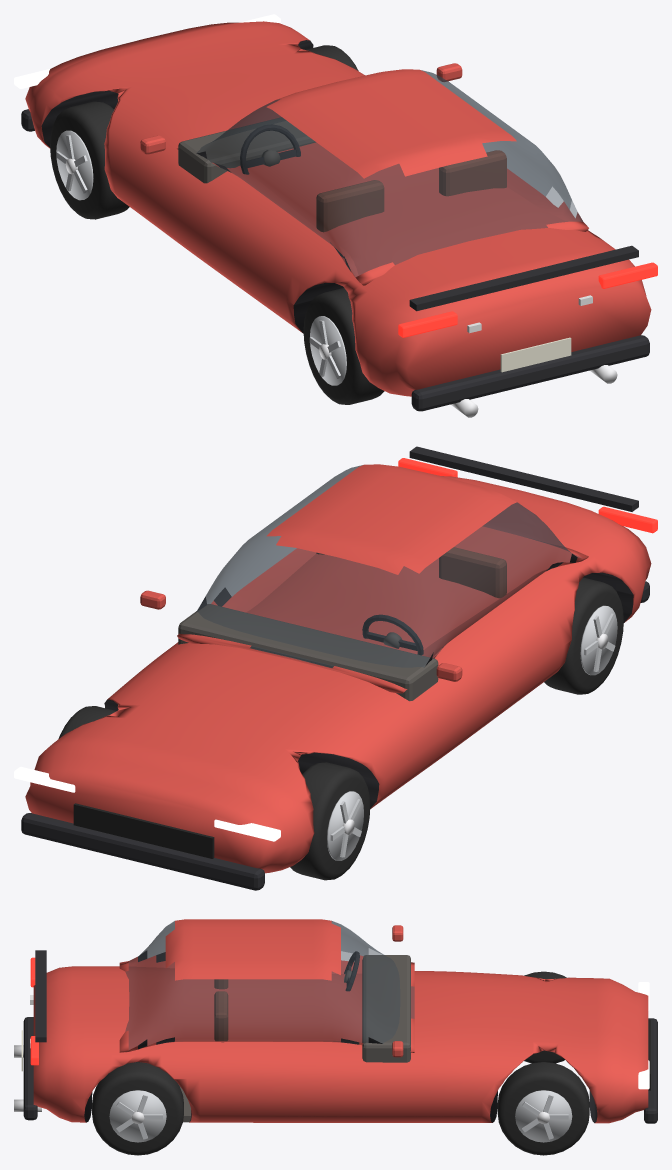
Rendered from coupe.glb.
The picture shows the model from 3 angles, top to bottom: view 1: azimuth 30°, elevation 25°; view 2: azimuth 150°, elevation 25°; view 3: azimuth 270°, elevation 25°; orthographic projection. The views are drawn at different scales.
Visible parts, largest first — view 1: Body.003, Glass.003, Interior.003, Wheel_FL.003, Wheel_RL.003, Lights_Tail.003, SteeringWheel.003, Lights_Head.003; view 2: Body.003, Glass.003, Interior.003, Wheel_FL.003, Wheel_RL.003, Lights_Head.003, Lights_Tail.003, SteeringWheel.003, Wheel_FR.003; view 3: Body.003, Glass.003, Wheel_FR.003, Wheel_RR.003, Interior.003, Wheel_FL.003, Lights_Head.003, Lights_Tail.003, SteeringWheel.003.
Boxes of the visible parts, bbox=[...] form: Body.003: bbox=[21, 21, 651, 417]; Glass.003: bbox=[197, 70, 582, 276]; Interior.003: bbox=[178, 117, 506, 232]; Wheel_FL.003: bbox=[50, 101, 129, 219]; Wheel_RL.003: bbox=[303, 288, 384, 404]; Lights_Tail.003: bbox=[398, 262, 657, 337]; SteeringWheel.003: bbox=[240, 124, 300, 174]; Lights_Head.003: bbox=[14, 14, 280, 88]; Body.003: bbox=[21, 446, 651, 890]; Glass.003: bbox=[196, 465, 582, 667]; Interior.003: bbox=[178, 547, 506, 701]; Wheel_FL.003: bbox=[290, 762, 370, 880]; Wheel_RL.003: bbox=[544, 577, 623, 694]; Lights_Head.003: bbox=[14, 766, 280, 841]; Lights_Tail.003: bbox=[398, 458, 657, 533]; SteeringWheel.003: bbox=[362, 614, 423, 655]; Wheel_FR.003: bbox=[58, 706, 116, 738]; Body.003: bbox=[14, 919, 657, 1123]; Glass.003: bbox=[125, 921, 414, 1049]; Wheel_FR.003: bbox=[497, 1062, 589, 1155]; Wheel_RR.003: bbox=[92, 1062, 183, 1155]; Interior.003: bbox=[178, 955, 410, 1122]; Wheel_FL.003: bbox=[524, 971, 566, 1063]; Lights_Head.003: bbox=[638, 982, 649, 1089]; Lights_Tail.003: bbox=[30, 957, 38, 1065]; SteeringWheel.003: bbox=[344, 951, 359, 991].
Size of the model in its own units: 2.1 by 1.28 by 4.61.
